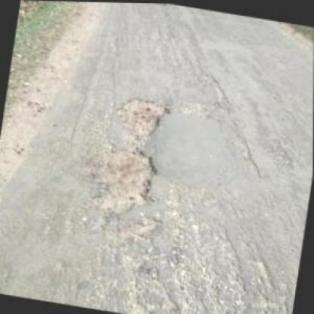Hueco: (82, 141, 163, 224), (111, 90, 175, 146)
